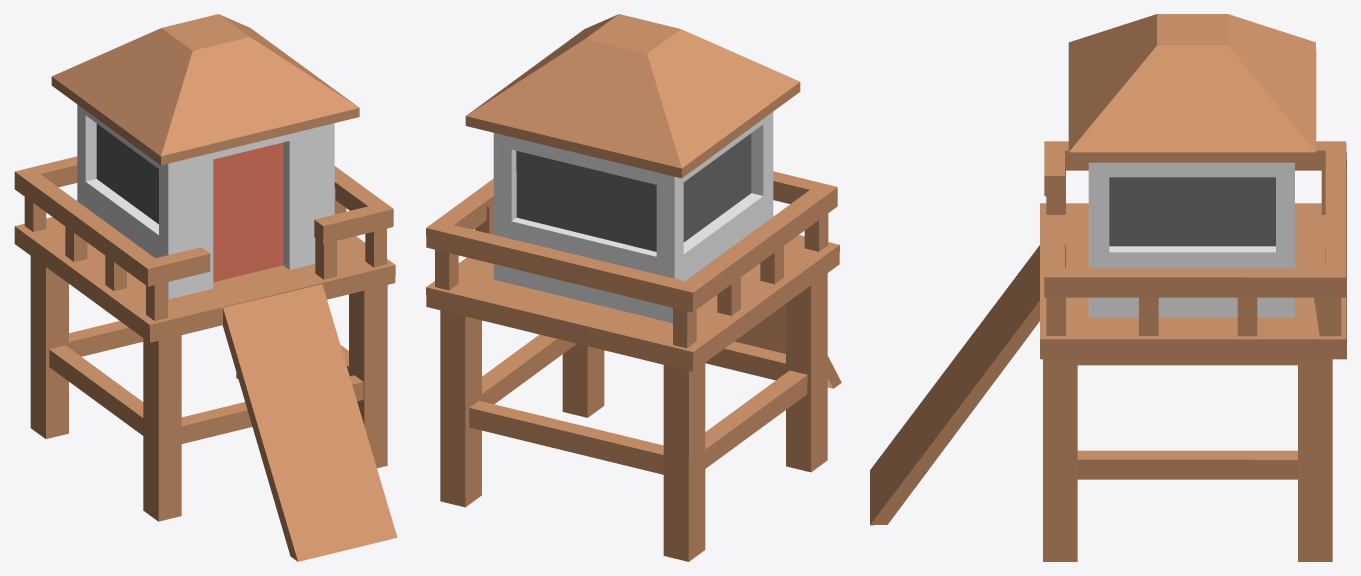
The model's file is zhuangshi_18.FBX.
The picture shows the model from 3 angles, left to right: view 1: azimuth 30°, elevation 25°; view 2: azimuth 150°, elevation 25°; view 3: azimuth 270°, elevation 25°; orthographic projection. The views are drawn at different scales.
Parts seen in each view (by area): view 1: zhuangshi_18; view 2: zhuangshi_18; view 3: zhuangshi_18.
Part boxes in pixels (bbox=[...]): zhuangshi_18: bbox=[14, 14, 397, 561]; zhuangshi_18: bbox=[426, 14, 841, 561]; zhuangshi_18: bbox=[870, 14, 1346, 561].
Size of the model in its own units: 901 by 1448 by 1337.
